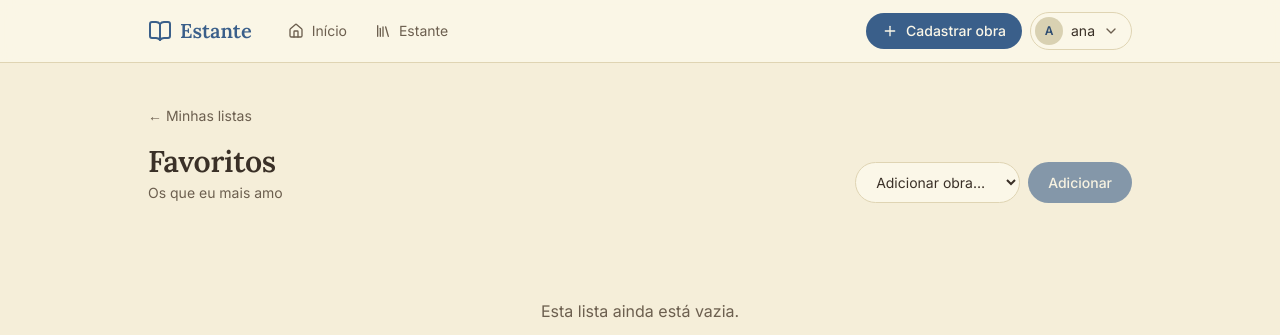
Test case: detalhe da lista › só habilita "Adicionar" depois de escolher uma obra
Expected: the button "Adicionar" is disabled, [1028,162,1132,203]
Select "One Piece, Vol. 1" in the dropdown named "Escolher obra para adicionar" at (938,182), box [855,162,1020,203]
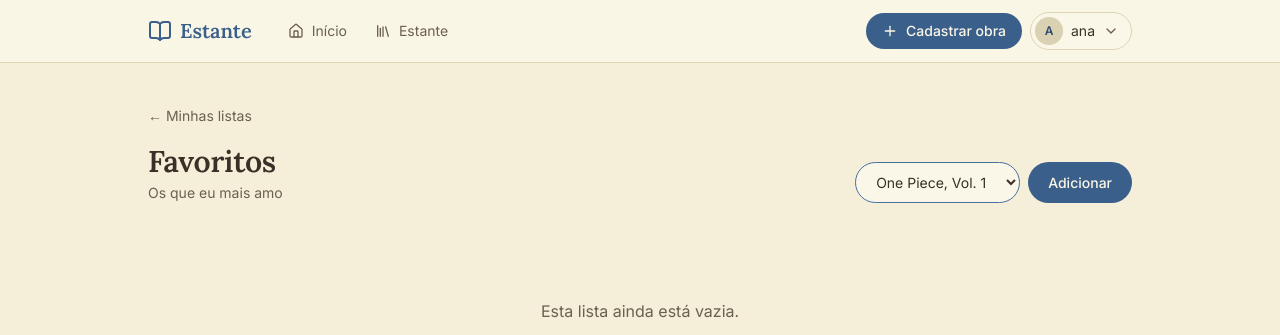
Expected: the button "Adicionar" is enabled, [1028,162,1132,203]
